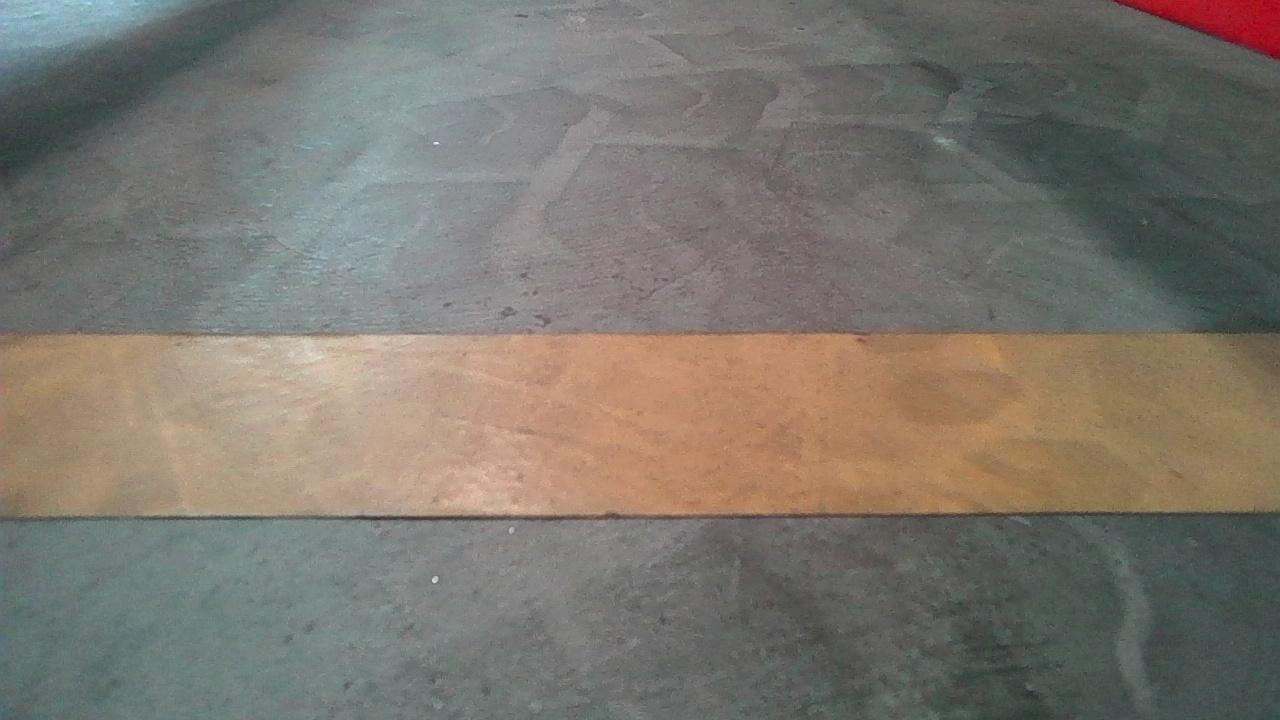yellow_line: (3, 316, 1264, 533)
